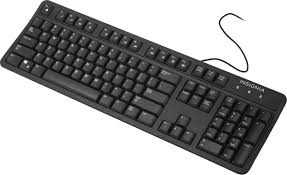keyboard: (3, 0, 287, 175)
